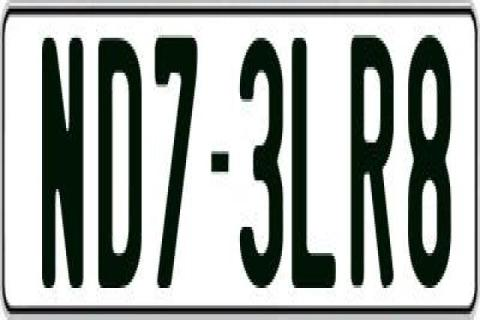0: (240, 38, 288, 302), (154, 38, 202, 300), (406, 35, 452, 297)
D: (96, 35, 142, 291)
L: (290, 29, 342, 282)
N: (40, 29, 84, 282)
R: (350, 26, 398, 288)
